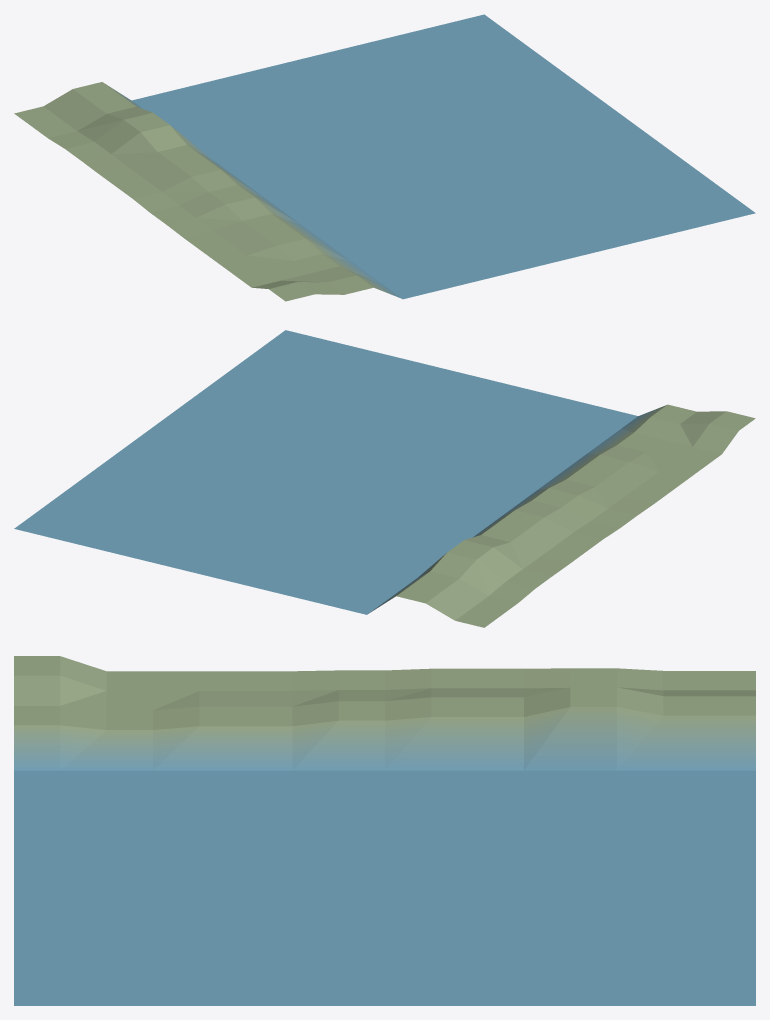
3 views of the same model, one above another, from view 1: azimuth 30°, elevation 25°; view 2: azimuth 150°, elevation 25°; view 3: azimuth 270°, elevation 25° (orthographic). The views are drawn at different scales.
Size of the model in its own units: 32 by 2.1 by 32.
